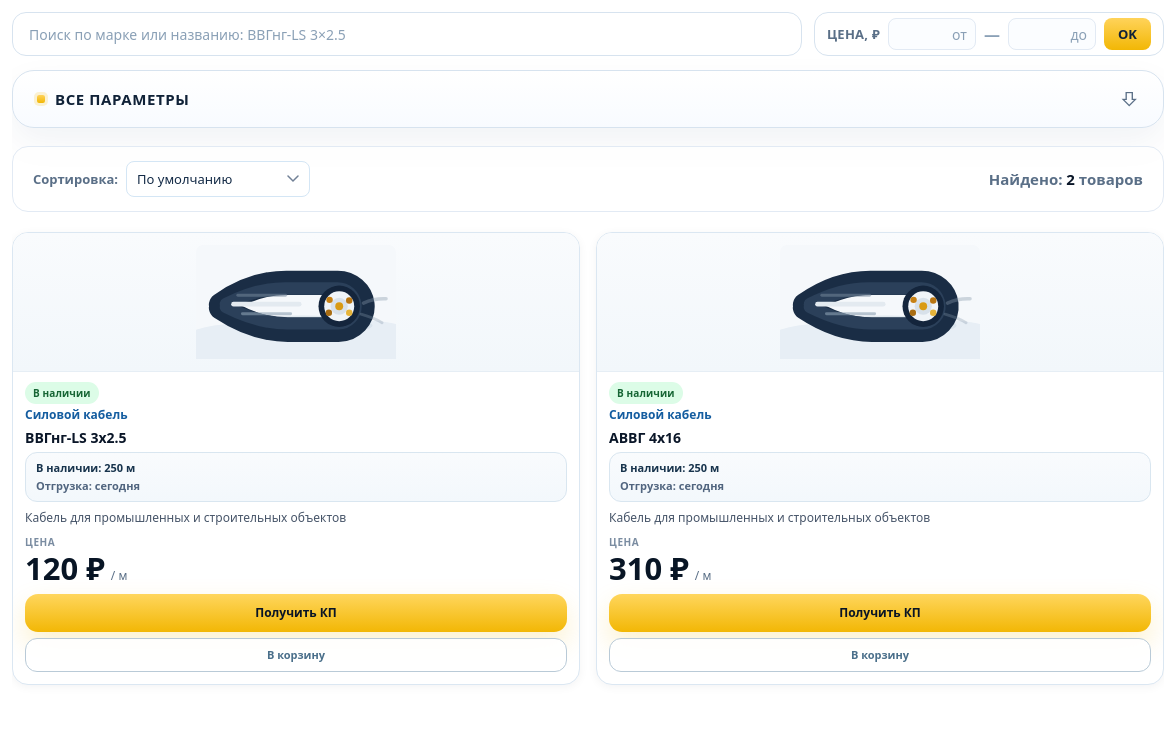
Test case: ProductListingView render flow › коммитит диапазон цены в URL
Type "100" into the number field named "Цена от, ₽". click: point(932, 34)
box: 888,18 -> 976,50
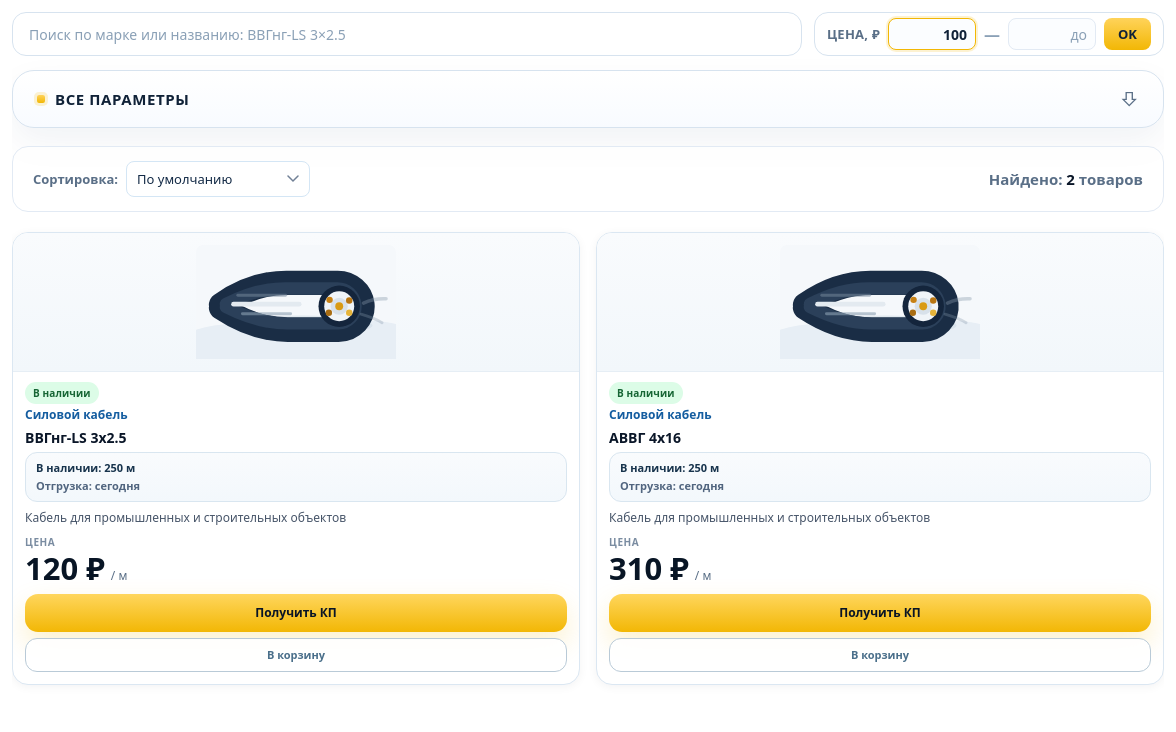
Type "200" into the number field named "Цена до, ₽". click: point(1052, 34)
box: 1008,18 -> 1096,50
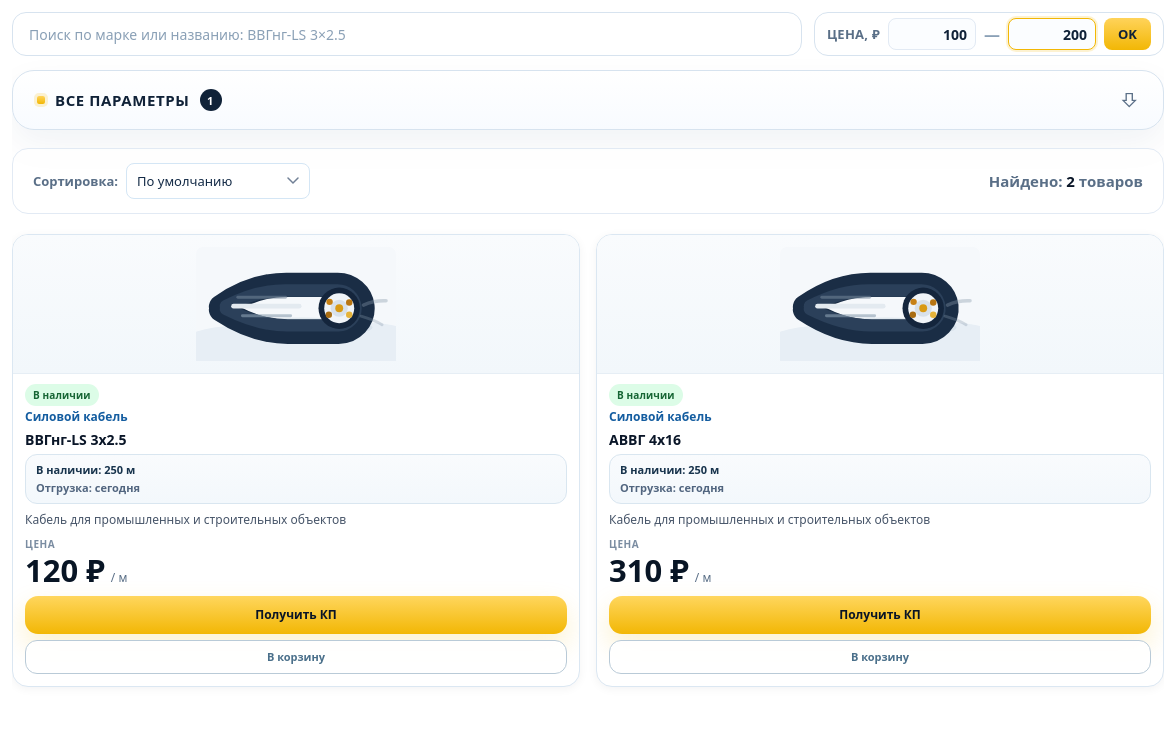
Click the button "OK". click: point(1128, 34)
box: 1104,18 -> 1151,50
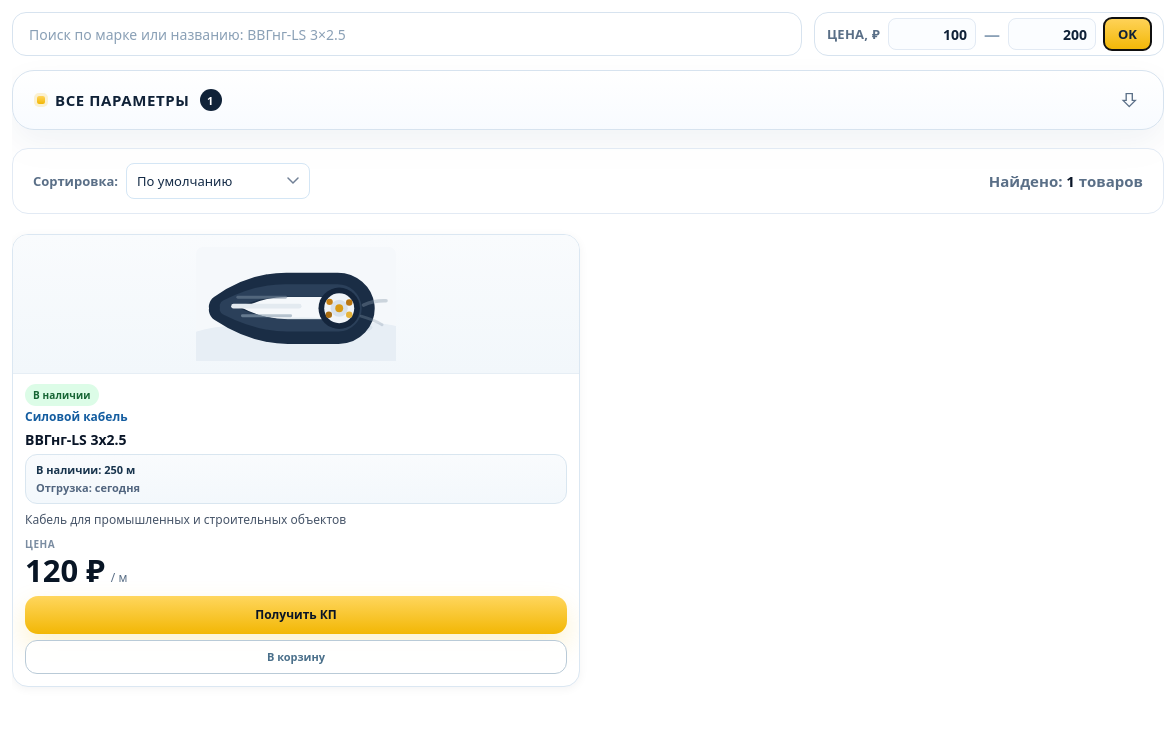
Expected: the link "ВВГнг-LS 3x2.5" is shown, 25,432 -> 126,449
Result: the link "АВВГ 4x16" is gone
